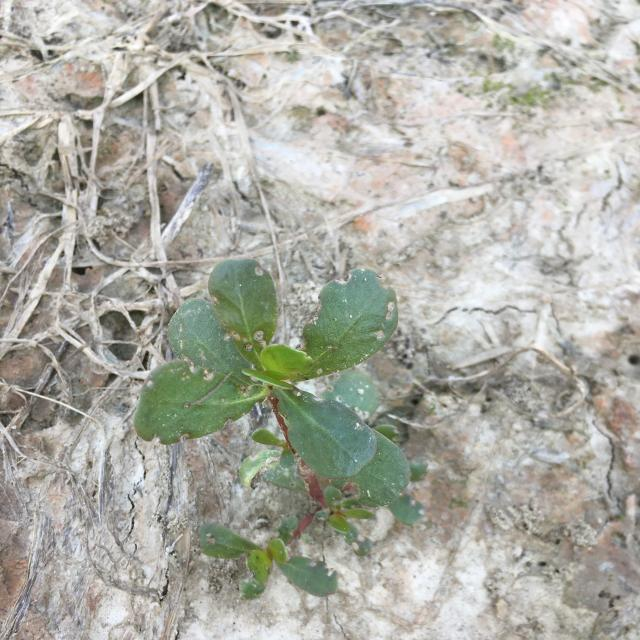Purslane: (133, 256, 430, 602)
